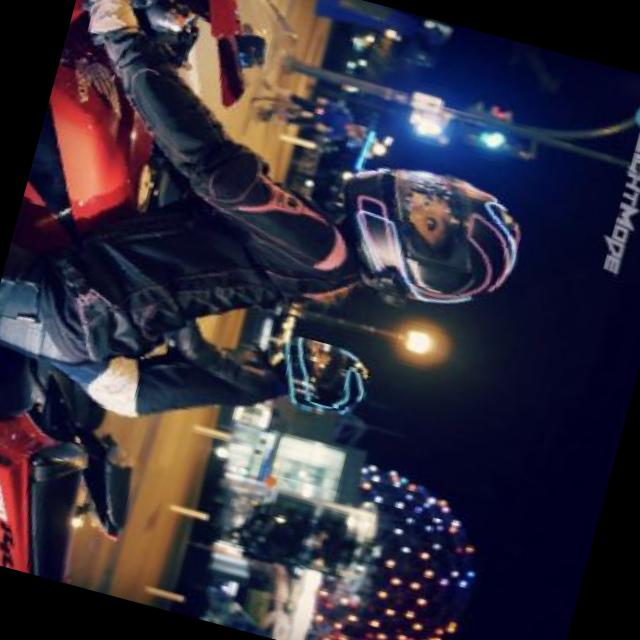With Helmet: (322, 146, 536, 328), (271, 334, 378, 426)
